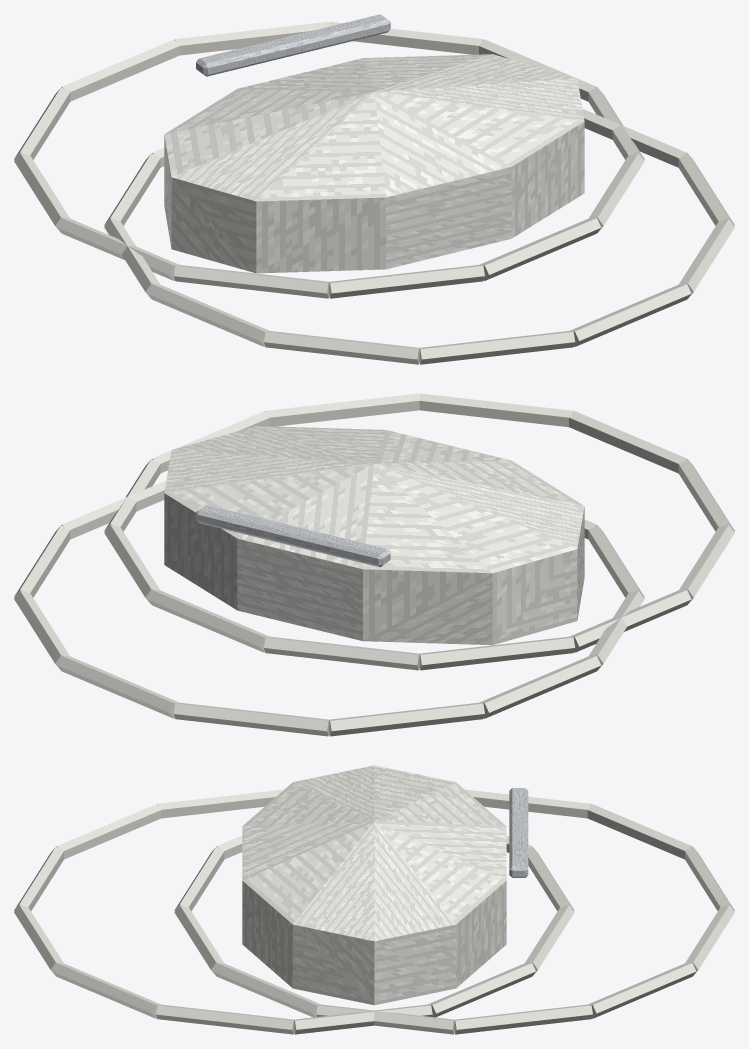
Rendered from mask_dust.glb.
The picture shows the model from 3 angles, top to bottom: view 1: azimuth 30°, elevation 25°; view 2: azimuth 150°, elevation 25°; view 3: azimuth 270°, elevation 25°; orthographic projection. The views are drawn at different scales.
Parts seen in each view (by area): view 1: block_pad, block_nosewire, block_strap-0.0254, block_strap0.0253, block_strap-0.0253, block_strap0.0254, block_strap0.0252, block_strap-0.0252, block_strap0.0255, block_strap-0.0258, block_strap-0.0259, block_strap-0.02510 (+11 smaller); view 2: block_pad, block_nosewire, block_strap-0.0258, block_strap-0.0257, block_strap0.0257, block_strap0.0258, block_strap0.0252, block_strap0.0251, block_strap-0.0256, block_strap-0.0259, block_strap0.0259, block_strap0.0253 (+11 smaller); view 3: block_pad, block_strap-0.02511, block_strap0.0250, block_strap0.0255, block_nosewire, block_strap-0.02510, block_strap0.0251, block_strap-0.0251, block_strap0.02510, block_strap-0.0257, block_strap0.0254, block_strap-0.0250 (+10 smaller).
Boxes of the visible parts, x1=… form: block_pad: x1=164, y1=54, x2=584, y2=273; block_nosewire: x1=196, y1=14, x2=390, y2=76; block_strap-0.0254: x1=173, y1=265, x2=329, y2=298; block_strap0.0253: x1=419, y1=331, x2=575, y2=364; block_strap-0.0253: x1=329, y1=265, x2=484, y2=298; block_strap0.0254: x1=264, y1=331, x2=419, y2=364; block_strap0.0252: x1=569, y1=284, x2=691, y2=346; block_strap-0.0252: x1=479, y1=218, x2=601, y2=280; block_strap0.0255: x1=147, y1=284, x2=269, y2=346; block_strap-0.0258: x1=61, y1=39, x2=179, y2=101; block_strap-0.0259: x1=175, y1=21, x2=329, y2=55; block_strap-0.02510: x1=329, y1=21, x2=483, y2=54; block_pad: x1=164, y1=426, x2=584, y2=645; block_nosewire: x1=196, y1=505, x2=390, y2=567; block_strap-0.0258: x1=173, y1=702, x2=329, y2=736; block_strap-0.0257: x1=329, y1=702, x2=484, y2=736; block_strap0.0257: x1=419, y1=636, x2=575, y2=670; block_strap0.0258: x1=264, y1=636, x2=419, y2=670; block_strap0.0252: x1=419, y1=393, x2=573, y2=427; block_strap0.0251: x1=265, y1=393, x2=419, y2=426; block_strap-0.0256: x1=479, y1=656, x2=601, y2=718; block_strap-0.0259: x1=57, y1=656, x2=178, y2=718; block_strap0.0259: x1=147, y1=590, x2=269, y2=652; block_strap0.0253: x1=569, y1=411, x2=687, y2=473; block_pad: x1=242, y1=765, x2=506, y2=1005; block_strap-0.02511: x1=454, y1=1004, x2=592, y2=1034; block_strap0.0250: x1=156, y1=1004, x2=294, y2=1034; block_strap0.0255: x1=157, y1=789, x2=283, y2=818; block_nosewire: x1=509, y1=788, x2=528, y2=877; block_strap-0.02510: x1=588, y1=963, x2=696, y2=1018; block_strap0.0251: x1=52, y1=963, x2=160, y2=1018; block_strap-0.0251: x1=213, y1=963, x2=321, y2=1017; block_strap0.02510: x1=427, y1=963, x2=535, y2=1017; block_strap-0.0257: x1=587, y1=804, x2=692, y2=859; block_strap0.0254: x1=56, y1=804, x2=161, y2=859; block_strap-0.0250: x1=316, y1=1004, x2=454, y2=1034.
Size of the model in its own units: 0.1748 by 0.044 by 0.2248.
Materials: 2 (2 with a texture image).
